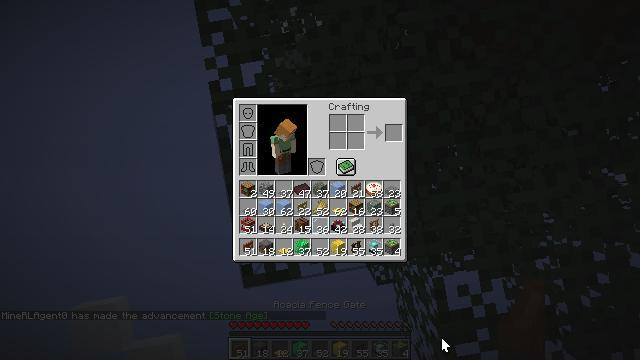cursor: (441, 337, 451, 353)
